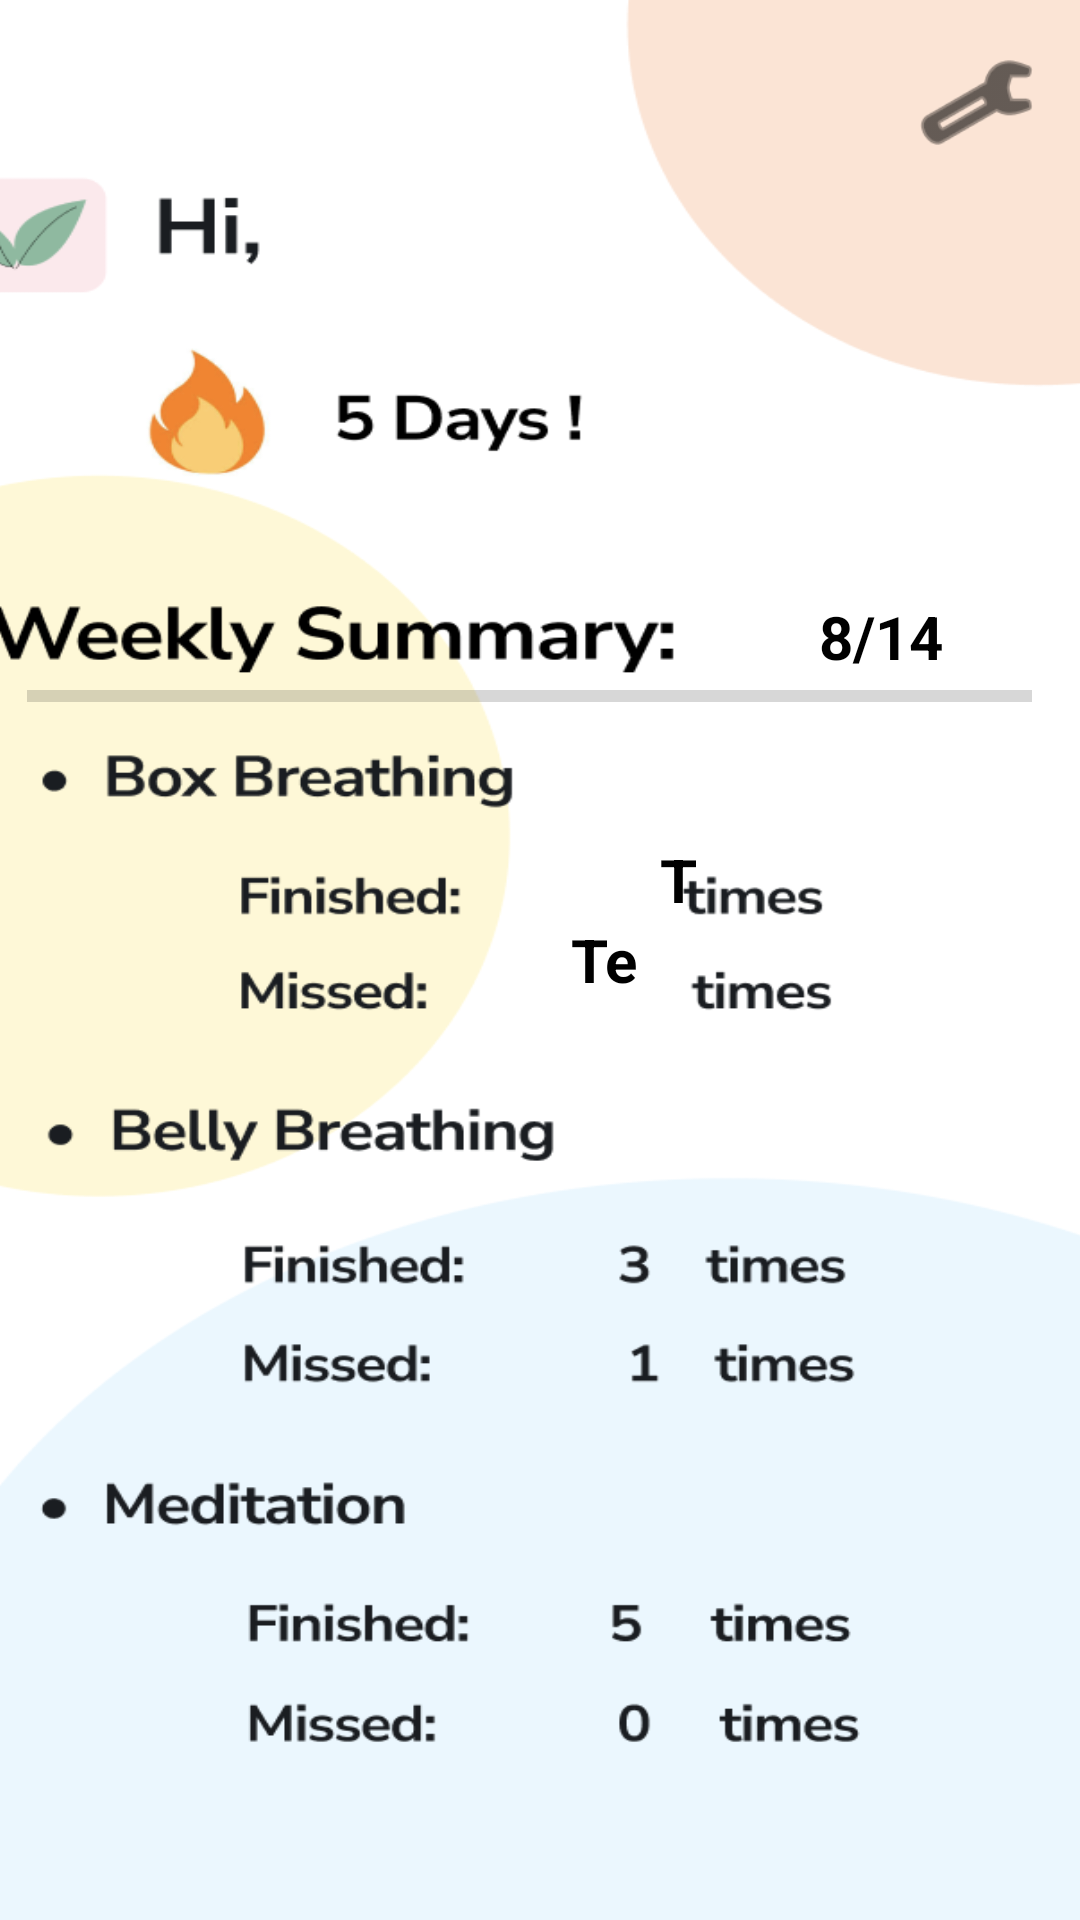

Icons on this 1080×1920 Android screen, each with its box as (x1, y1, x2, y2):
preferences: (921, 60, 1032, 145)
